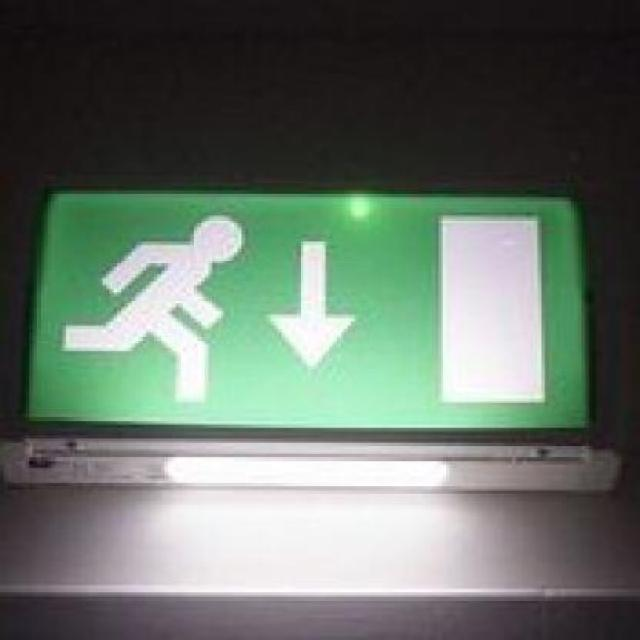emergency_exit: (20, 183, 597, 448)
